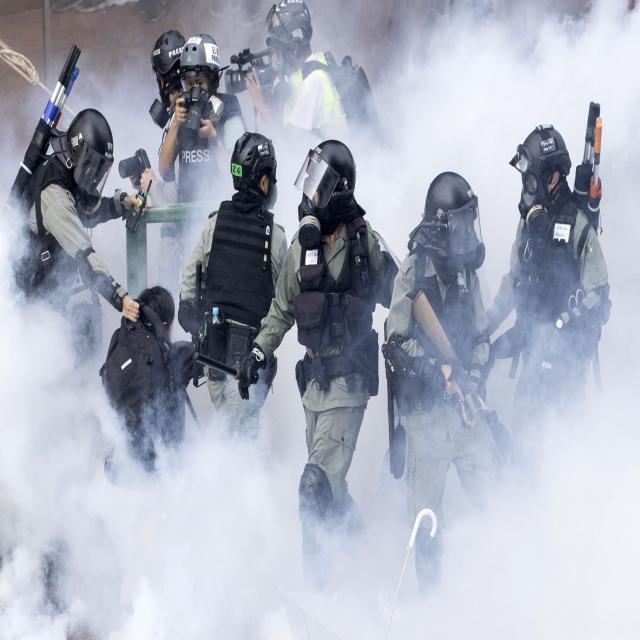police: (259, 136, 407, 623), (484, 104, 621, 550), (389, 165, 506, 609), (0, 23, 133, 391), (185, 144, 302, 522)
